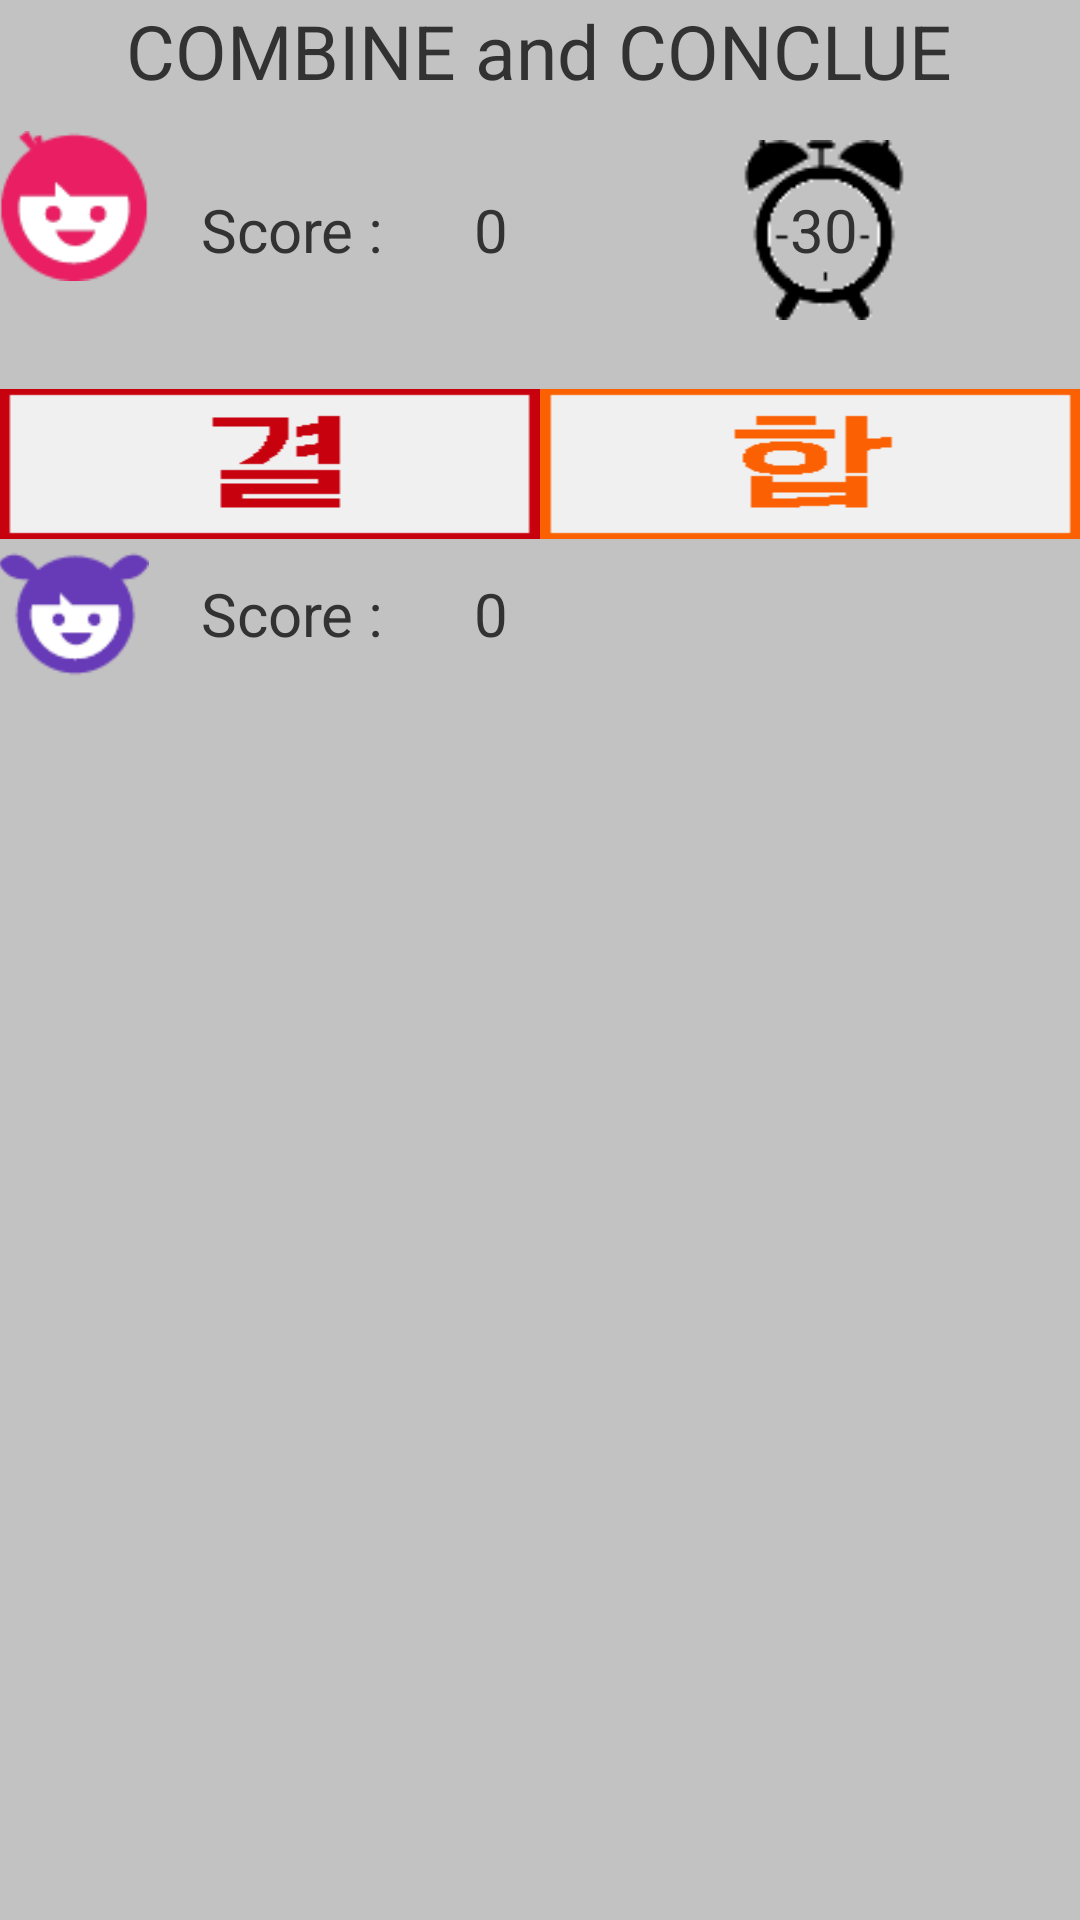

Point at icon controls on the screen. Image size 1080x1920, points as (x=x, y=y).
player: (x=74, y=206), (x=74, y=614)
